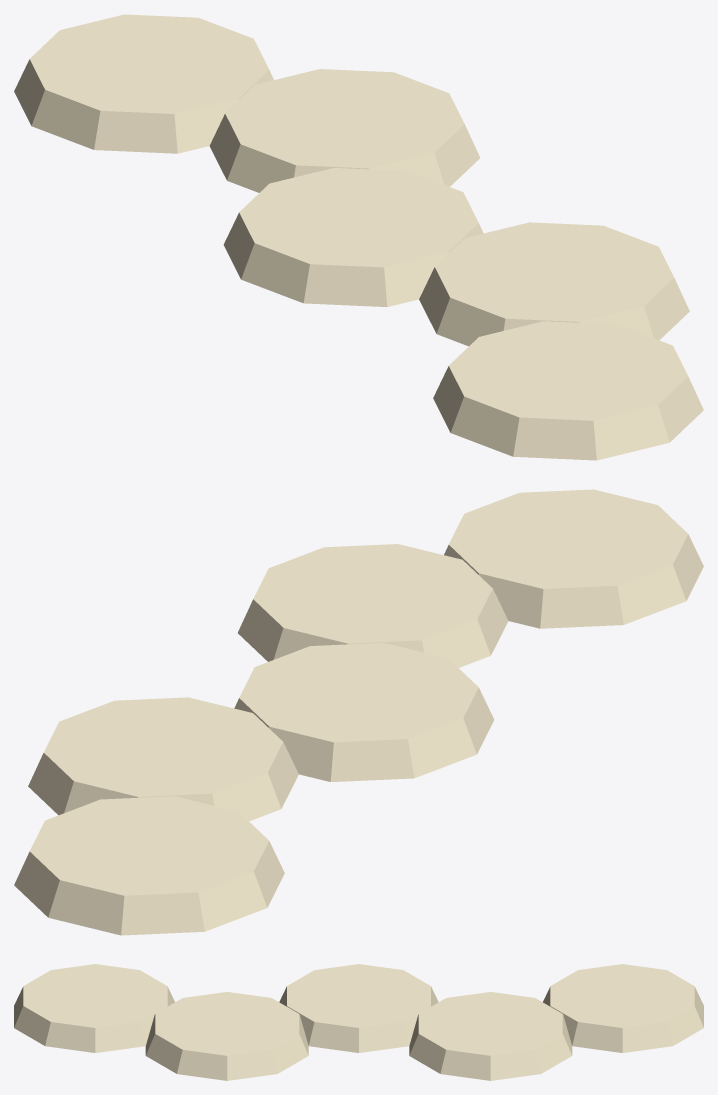
Rendered from meadow-courier-garden-stepping-path__31.glb.
The picture shows the model from 3 angles, top to bottom: view 1: azimuth 30°, elevation 25°; view 2: azimuth 150°, elevation 25°; view 3: azimuth 270°, elevation 25°; orthographic projection. The views are drawn at different scales.
Parts seen in each view (by area): view 1: meadow-courier-stepping-path; view 2: meadow-courier-stepping-path; view 3: meadow-courier-stepping-path.
Boxes of the visible parts, x1=… form: meadow-courier-stepping-path: x1=14, y1=14, x2=703, y2=460; meadow-courier-stepping-path: x1=14, y1=489, x2=703, y2=935; meadow-courier-stepping-path: x1=14, y1=964, x2=703, y2=1080.
Bounding box in the file's own units: 0.72 × 0.07 × 2.09.
